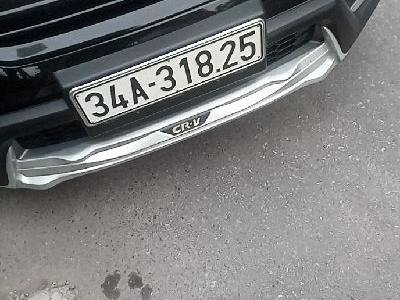number: (71, 18, 267, 128)
